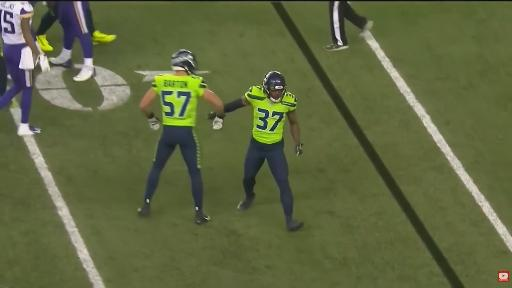Helmet: (263, 71, 286, 102), (172, 50, 197, 74)
Jersey: (245, 86, 296, 143), (153, 74, 207, 126), (0, 2, 33, 44)
Player: (139, 50, 223, 224), (224, 72, 303, 230), (0, 2, 49, 135), (50, 2, 95, 81), (36, 2, 58, 51)
